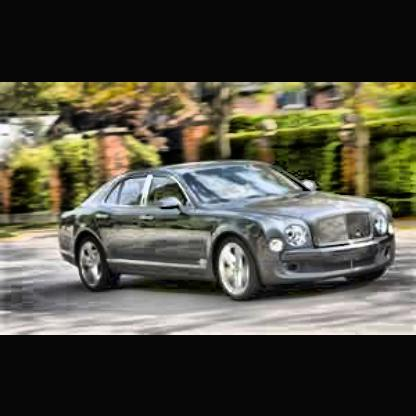Bentley Mulsanne Sedan 2011: (64, 164, 395, 305)
